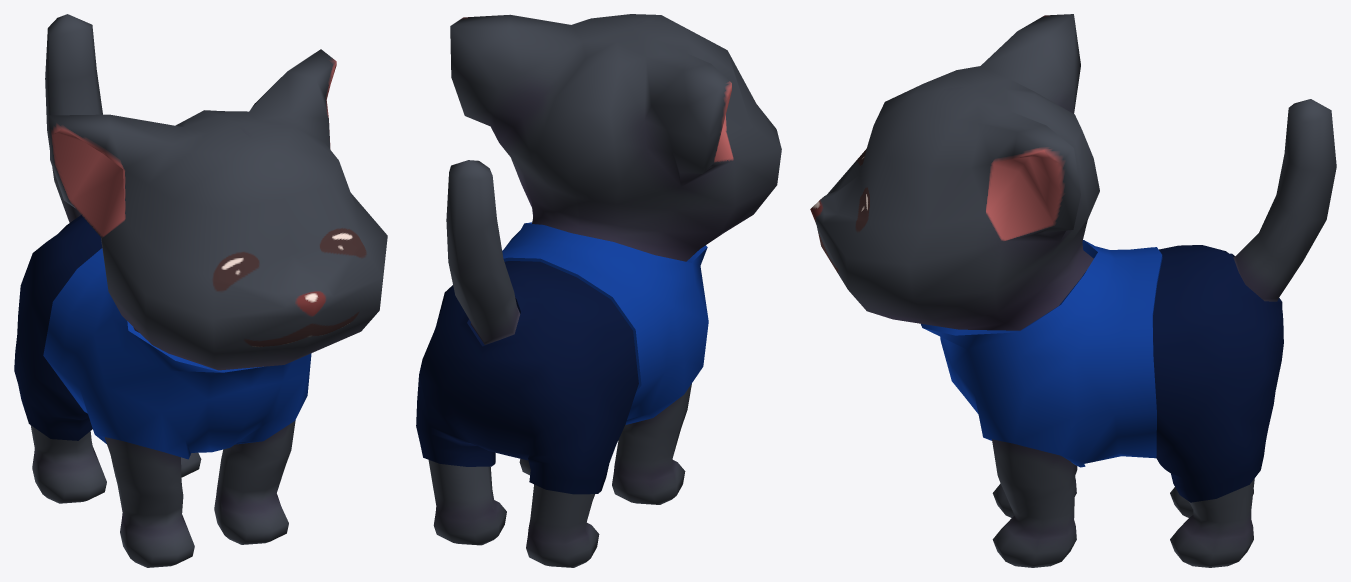
Rendered from Athlete Cat03.fbx.
The picture shows the model from 3 angles, left to right: view 1: azimuth 30°, elevation 25°; view 2: azimuth 150°, elevation 25°; view 3: azimuth 270°, elevation 25°; orthographic projection. The views are drawn at different scales.
Visible parts, largest first — view 1: Cat_Base002, Athlete_Cat_Jersey, Athlete_Cat_Jersey_Shorts; view 2: Cat_Base002, Athlete_Cat_Jersey_Shorts, Athlete_Cat_Jersey; view 3: Cat_Base002, Athlete_Cat_Jersey, Athlete_Cat_Jersey_Shorts.
Boxes of the visible parts, <box> form: Cat_Base002: <box>30,14,387,567</box>; Athlete_Cat_Jersey: <box>43,248,311,459</box>; Athlete_Cat_Jersey_Shorts: <box>14,215,102,440</box>; Cat_Base002: <box>428,14,781,567</box>; Athlete_Cat_Jersey_Shorts: <box>416,261,638,494</box>; Athlete_Cat_Jersey: <box>502,222,708,424</box>; Cat_Base002: <box>810,14,1336,567</box>; Athlete_Cat_Jersey: <box>921,240,1162,467</box>; Athlete_Cat_Jersey_Shorts: <box>1153,245,1283,502</box>.
Size of the model in its own units: 1.75 by 2.83 by 2.68.
Materials: 3 (1 with a texture image).
